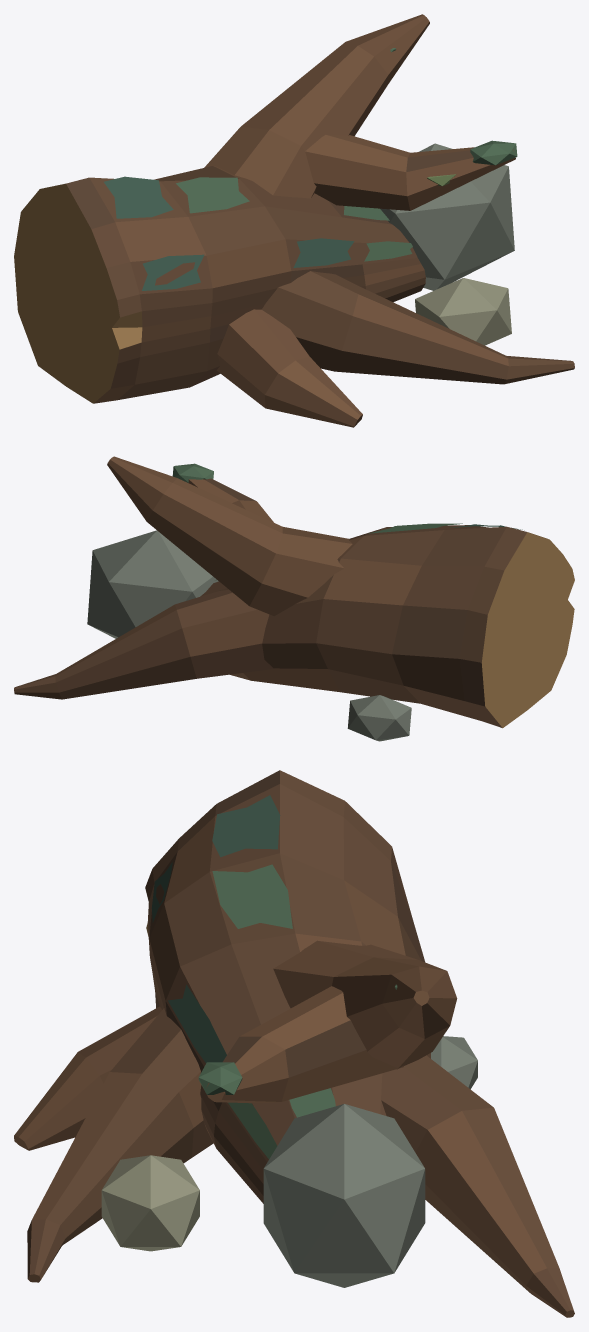
Rendered from rootfall-right.glb.
3 renders of one model, top to bottom at view 1: azimuth 30°, elevation 25°; view 2: azimuth 150°, elevation 25°; view 3: azimuth 270°, elevation 25°, orthographic. The views are drawn at different scales.
Parts seen in each view (by area): view 1: rootfall-right; view 2: rootfall-right; view 3: rootfall-right.
Boxes of the visible parts, bbox=[...] form: rootfall-right: bbox=[14, 14, 574, 427]; rootfall-right: bbox=[14, 456, 574, 741]; rootfall-right: bbox=[14, 770, 574, 1317].
Bounding box in the file's own units: 5.22 × 2.65 × 4.35.
1 material, 1 textured.
